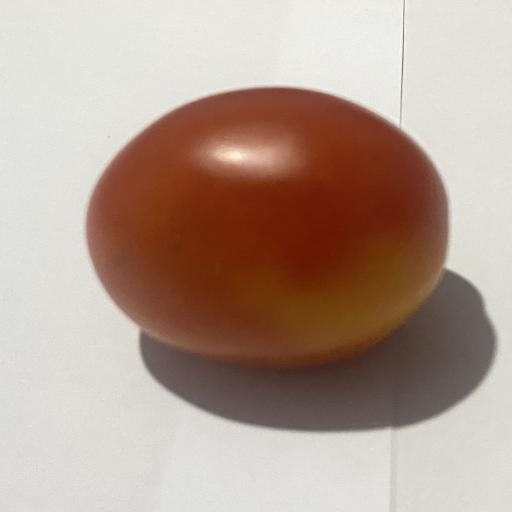ripe: (87, 88, 448, 366)
